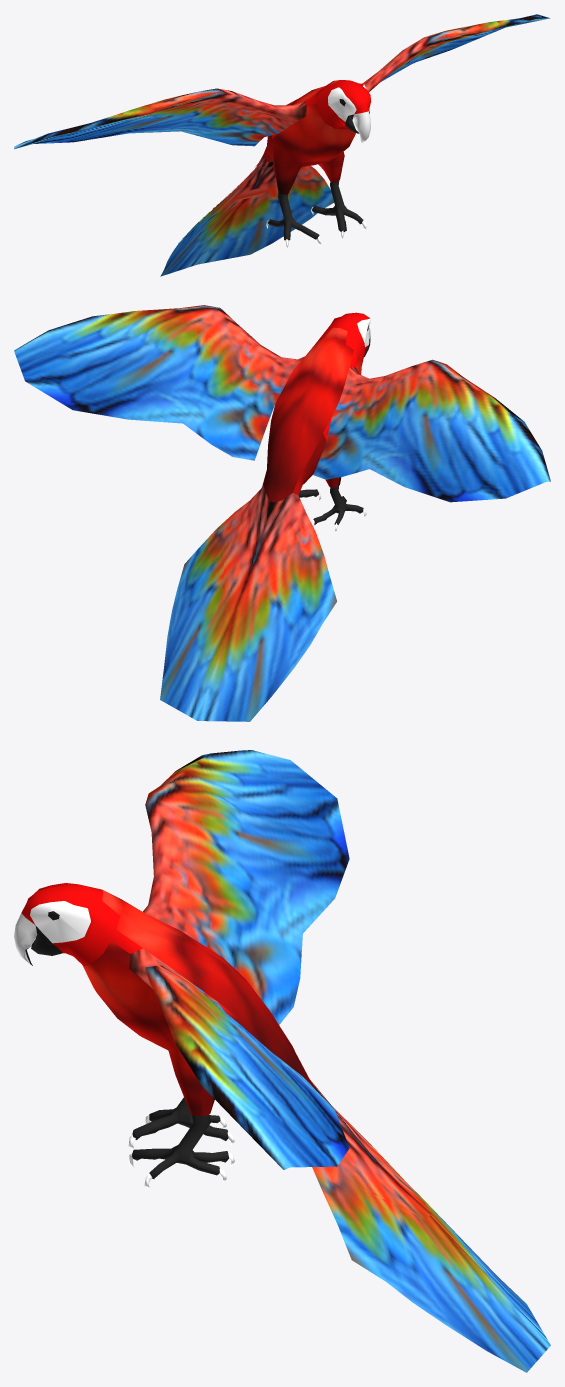
Rendered from Macaw02.glb.
The picture shows the model from 3 angles, top to bottom: view 1: azimuth 30°, elevation 25°; view 2: azimuth 150°, elevation 25°; view 3: azimuth 270°, elevation 25°; orthographic projection. The views are drawn at different scales.
Visible parts, largest first — view 1: Macaw02; view 2: Macaw02; view 3: Macaw02.
Part boxes in pixels (box(x1,y1,x2,y2)): Macaw02: box(14, 14, 550, 276); Macaw02: box(14, 305, 550, 721); Macaw02: box(14, 750, 550, 1372).
Size of what is drawn, in the model's own units: 1.49 by 0.7802 by 0.824.
Materials: 1 (1 with a texture image).
